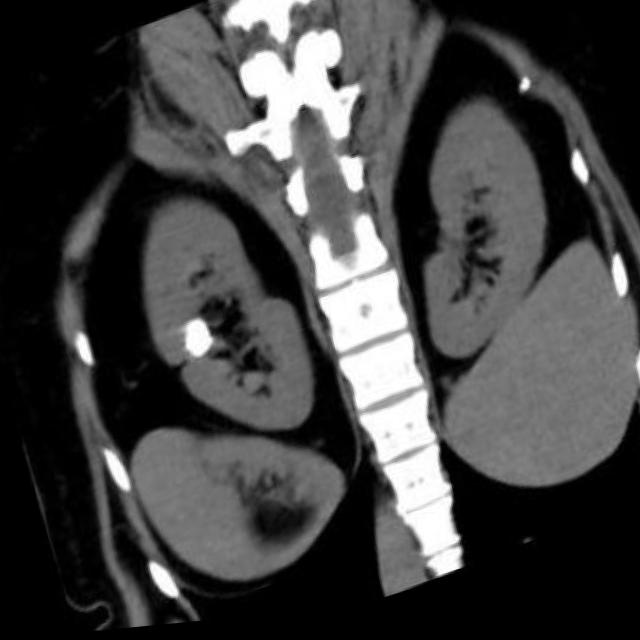Tas_Var: (175, 314, 221, 367)
